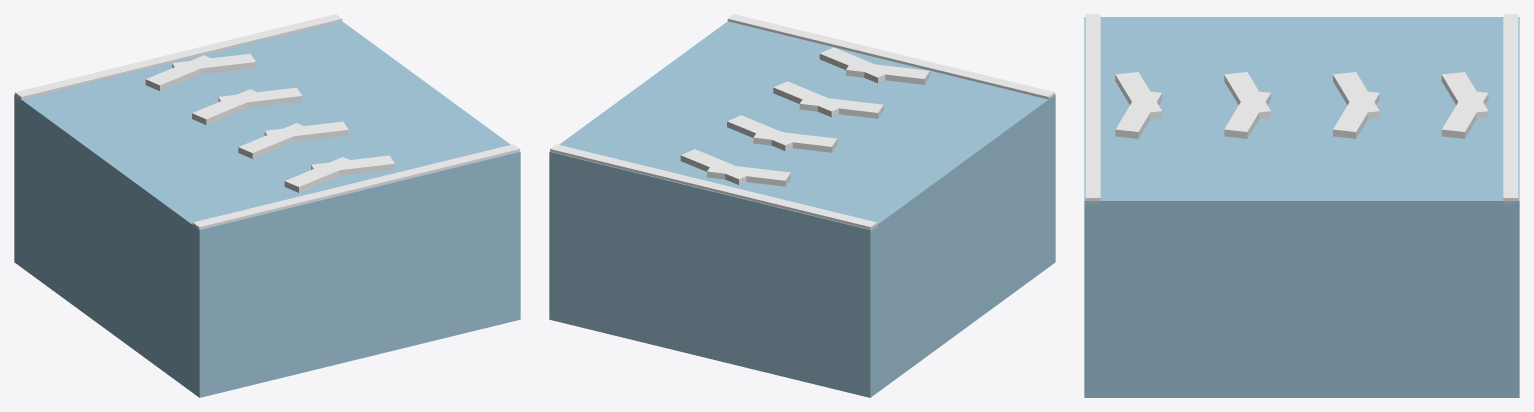
Rendered from OnOffConveyorA_TopHalf.glb.
The picture shows the model from 3 angles, left to right: view 1: azimuth 30°, elevation 25°; view 2: azimuth 150°, elevation 25°; view 3: azimuth 270°, elevation 25°; orthographic projection. The views are drawn at different scales.
Visible parts, largest first — view 1: OnOffConveyorA_TopHalf_body, rail_0.012, rail_-0.012, chev_1_-1.012, chev_2_-1.012, chev_3_1.012, chev_0_-1.012, chev_0_1.012, chev_2_1.012, chev_1_1.012, chev_3_-1.012; view 2: OnOffConveyorA_TopHalf_body, rail_0.012, rail_-0.012, chev_2_1.012, chev_3_1.012, chev_1_1.012, chev_0_1.012, chev_0_-1.012, chev_1_-1.012, chev_3_-1.012, chev_2_-1.012; view 3: OnOffConveyorA_TopHalf_body, rail_0.012, rail_-0.012, chev_0_1.012, chev_3_1.012, chev_1_1.012, chev_2_1.012, chev_3_-1.012, chev_0_-1.012, chev_1_-1.012, chev_2_-1.012.
Part boxes in pixels (box(x1,y1,x2,y2)): OnOffConveyorA_TopHalf_body: box(14, 21, 520, 397); rail_0.012: box(15, 14, 342, 100); rail_-0.012: box(192, 144, 519, 230); chev_1_-1.012: box(264, 121, 348, 141); chev_2_-1.012: box(218, 87, 302, 108); chev_3_1.012: box(145, 55, 217, 90); chev_0_-1.012: box(311, 155, 394, 175); chev_0_1.012: box(284, 157, 356, 192); chev_2_1.012: box(192, 89, 256, 124); chev_1_1.012: box(238, 123, 303, 158); chev_3_-1.012: box(172, 53, 255, 74); OnOffConveyorA_TopHalf_body: box(549, 21, 1055, 397); rail_0.012: box(550, 144, 877, 231); rail_-0.012: box(727, 14, 1054, 99); chev_2_1.012: box(753, 129, 837, 152); chev_3_1.012: box(707, 163, 790, 186); chev_1_1.012: box(799, 95, 883, 118); chev_0_1.012: box(846, 63, 929, 84); chev_0_-1.012: box(819, 47, 891, 83); chev_1_-1.012: box(773, 81, 845, 117); chev_3_-1.012: box(680, 149, 751, 184); chev_2_-1.012: box(727, 115, 792, 151); OnOffConveyorA_TopHalf_body: box(1084, 17, 1519, 397); rail_0.012: box(1503, 14, 1518, 203); rail_-0.012: box(1085, 14, 1100, 203); chev_0_1.012: box(1115, 72, 1162, 119); chev_3_1.012: box(1441, 72, 1488, 119); chev_1_1.012: box(1224, 72, 1270, 119); chev_2_1.012: box(1333, 72, 1379, 119); chev_3_-1.012: box(1441, 91, 1488, 138); chev_0_-1.012: box(1115, 91, 1162, 138); chev_1_-1.012: box(1224, 91, 1270, 138); chev_2_-1.012: box(1333, 91, 1379, 138).
Size of the model in its own units: 1 by 0.5175 by 1.
